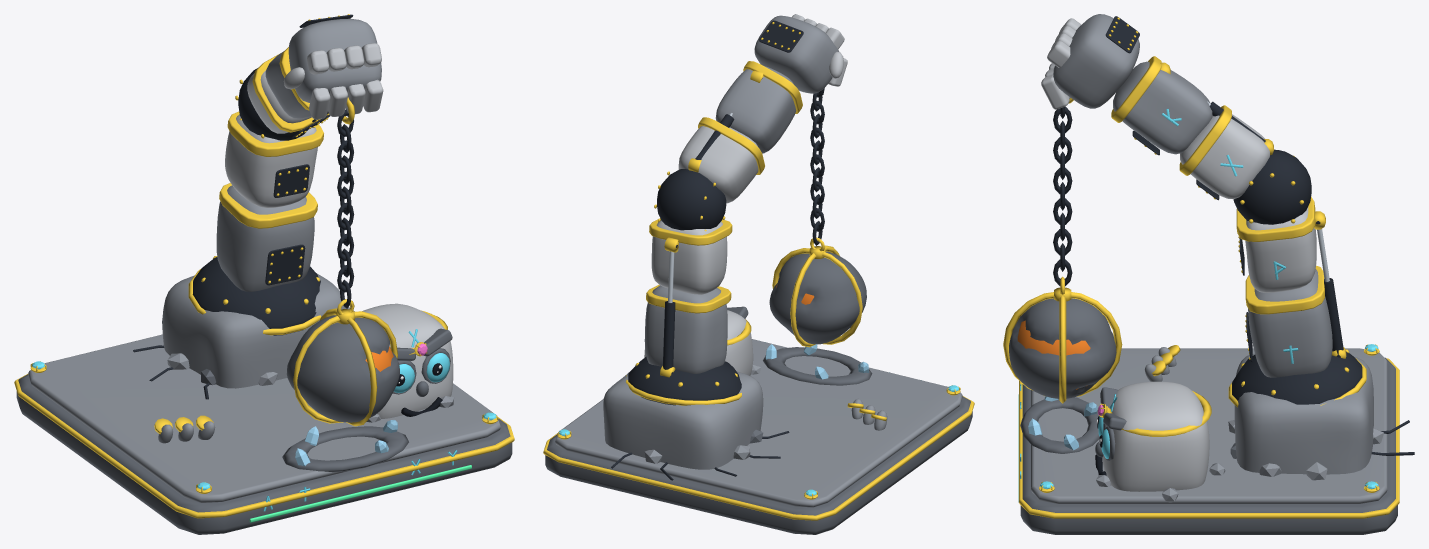
Rendered from WreckingCrane_T5.fbx.
3 renders of one model, left to right at view 1: azimuth 30°, elevation 25°; view 2: azimuth 150°, elevation 25°; view 3: azimuth 270°, elevation 25°, orthographic. The views are drawn at different scales.
Parts seen in each view (by area): view 1: WreckingCraneT5Plinth, WreckingCraneT5Ball, WreckingCraneT5Shoulder, WreckingCraneT5Fist, WreckingCraneT5Pauldron, WreckingCraneT5UpperArmA, WreckingCraneT5Head, WreckingCraneT5PlinthTrim, WreckingCraneT5UpperArmB, WreckingCraneT5UpperArmATrim, WreckingCraneT5UpperArmBTrim, WreckingCraneT5PlinthTrimGlow (+7 smaller); view 2: WreckingCraneT5Plinth, WreckingCraneT5Shoulder, WreckingCraneT5Ball, WreckingCraneT5UpperArmA, WreckingCraneT5Fist, WreckingCraneT5ForearmB, WreckingCraneT5Pauldron, WreckingCraneT5UpperArmB, WreckingCraneT5Elbow, WreckingCraneT5ForearmA, WreckingCraneT5PlinthTrim, WreckingCraneT5Pistons (+8 smaller); view 3: WreckingCraneT5Plinth, WreckingCraneT5Ball, WreckingCraneT5Head, WreckingCraneT5Shoulder, WreckingCraneT5Fist, WreckingCraneT5UpperArmA, WreckingCraneT5ForearmB, WreckingCraneT5Pauldron, WreckingCraneT5ForearmA, WreckingCraneT5Elbow, WreckingCraneT5UpperArmB, WreckingCraneT5PlinthTrim (+10 smaller).
Part boxes in pixels (x1,y1,x2,y2): WreckingCraneT5Plinth: (16,307,512,534); WreckingCraneT5Ball: (286,97,399,426); WreckingCraneT5Shoulder: (162,273,346,388); WreckingCraneT5Fist: (283,18,383,119); WreckingCraneT5Pauldron: (188,256,321,335); WreckingCraneT5UpperArmA: (216,185,314,291); WreckingCraneT5Head: (362,303,453,418); WreckingCraneT5PlinthTrim: (14,361,514,518); WreckingCraneT5UpperArmB: (225,114,317,207); WreckingCraneT5UpperArmATrim: (219,183,317,285); WreckingCraneT5UpperArmBTrim: (227,111,323,197); WreckingCraneT5PlinthTrimGlow: (32,361,496,522); WreckingCraneT5Plinth: (545,339,972,534); WreckingCraneT5Shoulder: (603,368,763,469); WreckingCraneT5Ball: (769,88,866,347); WreckingCraneT5UpperArmA: (644,285,727,373); WreckingCraneT5Fist: (754,14,847,93); WreckingCraneT5ForearmB: (715,65,795,153); WreckingCraneT5Pauldron: (626,356,741,405); WreckingCraneT5UpperArmB: (651,220,727,294); WreckingCraneT5Elbow: (654,169,726,231); WreckingCraneT5ForearmA: (678,126,758,203); WreckingCraneT5PlinthTrim: (543,385,974,520); WreckingCraneT5Pistons: (660,70,763,377); WreckingCraneT5Plinth: (1020,348,1414,534); WreckingCraneT5Ball: (1003,98,1122,403); WreckingCraneT5Head: (1095,381,1209,491); WreckingCraneT5Shoulder: (1234,353,1373,474); WreckingCraneT5Fist: (1041,14,1139,109); WreckingCraneT5UpperArmA: (1248,269,1332,377); WreckingCraneT5ForearmB: (1113,61,1212,154); WreckingCraneT5Pauldron: (1228,349,1366,407); WreckingCraneT5ForearmA: (1180,114,1269,199); WreckingCraneT5Elbow: (1233,149,1311,224); WreckingCraneT5UpperArmB: (1245,207,1316,292); WreckingCraneT5PlinthTrim: (1019,344,1399,518).
Size of the model in its own units: 1090 by 1434 by 1179.
